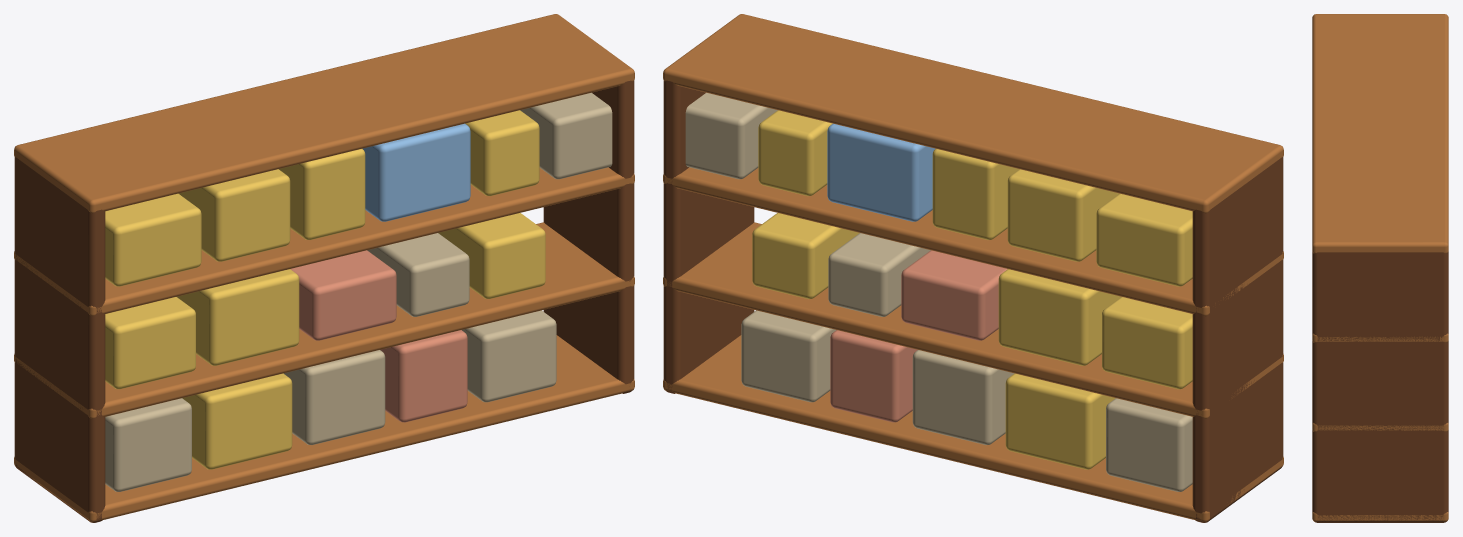
Rendered from shelf.glb.
3 views of the same model, side by side, from view 1: azimuth 30°, elevation 25°; view 2: azimuth 150°, elevation 25°; view 3: azimuth 270°, elevation 25° (orthographic). The views are drawn at different scales.
Parts seen in each view (by area): view 1: shelf; view 2: shelf; view 3: shelf.
Boxes of the visible parts, x1,y1,x2,y2 form: shelf: [14, 14, 634, 522]; shelf: [663, 14, 1283, 522]; shelf: [1312, 14, 1448, 522].
Size of the model in its own units: 2 by 1.13 by 0.5.
